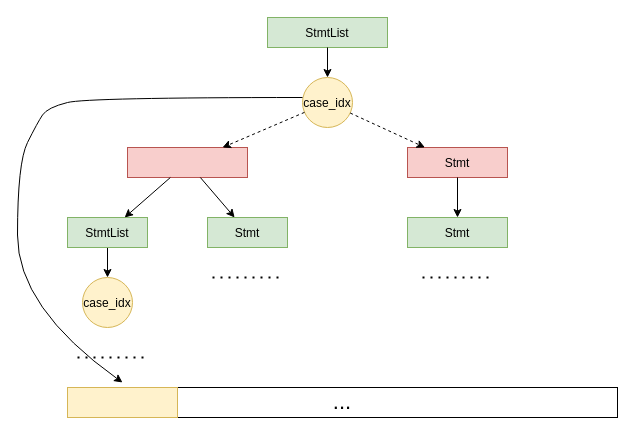
The diagram is 635 pixels wide and 435 high, and some of its shapes have lost their labels. The shapes that lost their labels are listed below. From the top down, each one's centre as x and y in pixels, then its label:
(187,162): StmtList + Stmt
(122,402): bytes[0]
